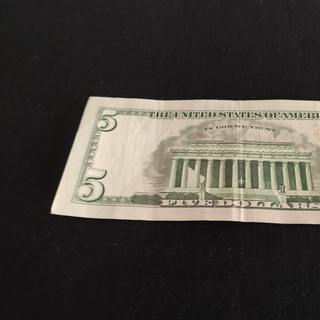5USDBack: (50, 95, 320, 226)
